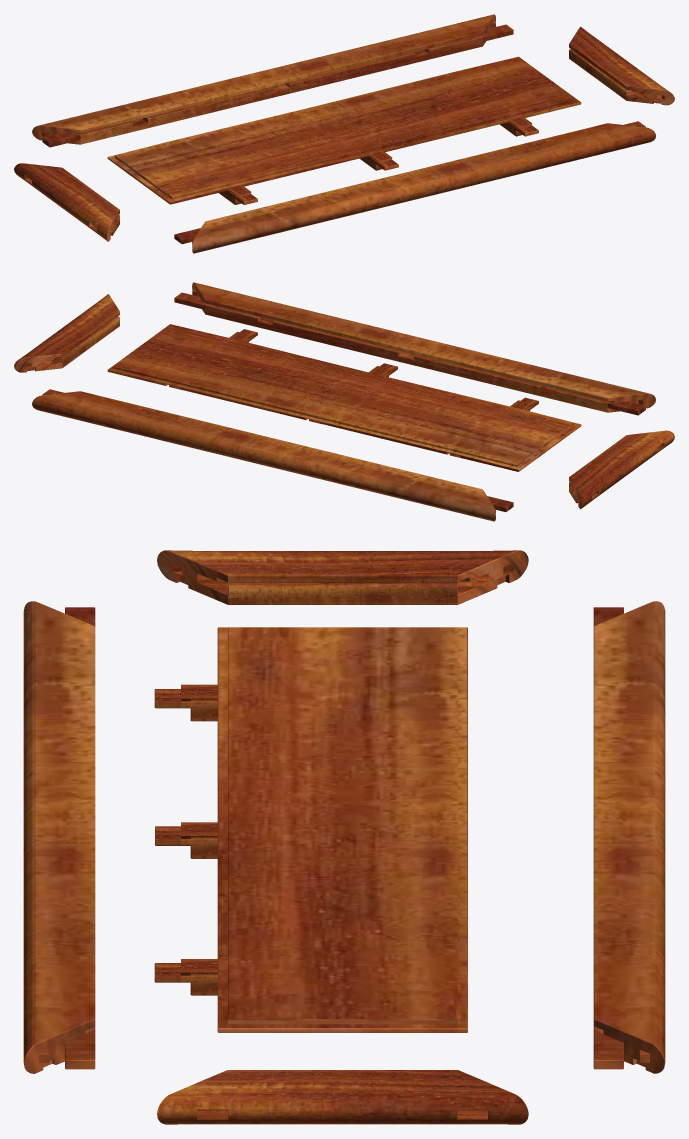
Rendered from ytsy_J_mianban.FBX.
3 renders of one model, top to bottom at view 1: azimuth 30°, elevation 25°; view 2: azimuth 150°, elevation 25°; view 3: azimuth 270°, elevation 25°, orthographic. The views are drawn at different scales.
Visible parts, largest first — view 1: ytsy_J_mianban, ytsy_J_dabian_1, ytsy_J_dabian_22, ytsy_J_motou_1, ytsy_J_motou_22, ytsy_J_chuandai_2, ytsy_J_chuandai_3, ytsy_J_chuandai_1; view 2: ytsy_J_mianban, ytsy_J_dabian_22, ytsy_J_dabian_1, ytsy_J_motou_1, ytsy_J_motou_22; view 3: ytsy_J_mianban, ytsy_J_dabian_1, ytsy_J_dabian_22, ytsy_J_motou_22, ytsy_J_motou_1, ytsy_J_chuandai_1, ytsy_J_chuandai_3, ytsy_J_chuandai_2.
Boxes of the visible parts, x1=… form: ytsy_J_mianban: x1=107, y1=56, x2=581, y2=204; ytsy_J_dabian_1: x1=174, y1=121, x2=655, y2=253; ytsy_J_dabian_22: x1=32, y1=14, x2=513, y2=147; ytsy_J_motou_1: x1=14, y1=163, x2=119, y2=241; ytsy_J_motou_22: x1=569, y1=26, x2=674, y2=105; ytsy_J_chuandai_2: x1=359, y1=151, x2=398, y2=170; ytsy_J_chuandai_3: x1=500, y1=117, x2=538, y2=136; ytsy_J_chuandai_1: x1=219, y1=185, x2=257, y2=204; ytsy_J_mianban: x1=107, y1=324, x2=581, y2=471; ytsy_J_dabian_22: x1=32, y1=389, x2=513, y2=521; ytsy_J_dabian_1: x1=174, y1=282, x2=655, y2=415; ytsy_J_motou_1: x1=569, y1=430, x2=674, y2=509; ytsy_J_motou_22: x1=14, y1=294, x2=119, y2=372; ytsy_J_mianban: x1=217, y1=627, x2=467, y2=1032; ytsy_J_dabian_1: x1=23, y1=601, x2=95, y2=1073; ytsy_J_dabian_22: x1=593, y1=601, x2=665, y2=1073; ytsy_J_motou_22: x1=157, y1=1070, x2=528, y2=1124; ytsy_J_motou_1: x1=157, y1=550, x2=528, y2=604; ytsy_J_chuandai_1: x1=154, y1=684, x2=217, y2=721; ytsy_J_chuandai_3: x1=154, y1=959, x2=217, y2=995; ytsy_J_chuandai_2: x1=155, y1=822, x2=217, y2=858.
Bounding box in the file's own units: 128 × 3.25 × 62.8.
